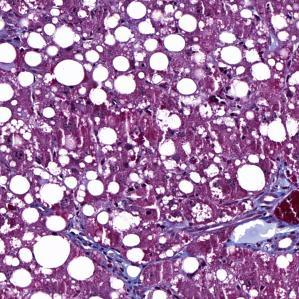fibrosis: (214, 208, 294, 248)
